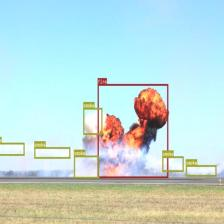fire: (98, 83, 168, 178)
smoke: (74, 156, 99, 178), (83, 107, 102, 134), (34, 147, 70, 158), (186, 164, 216, 176), (162, 156, 183, 171), (0, 142, 24, 155)
